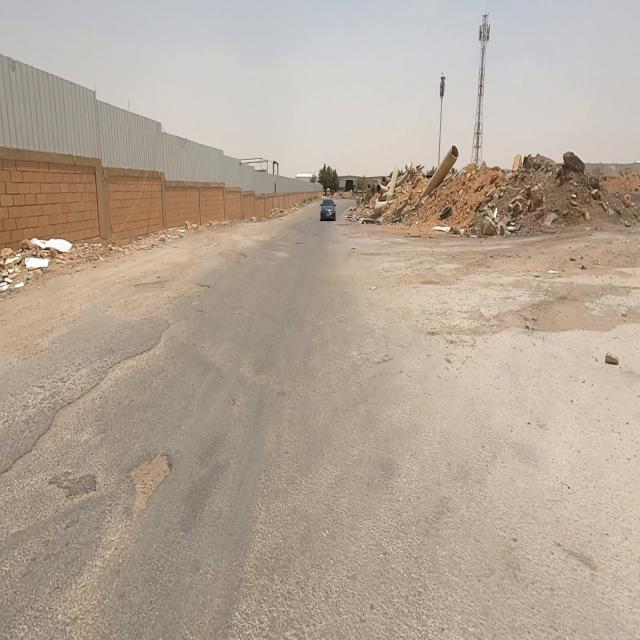Pothole: (130, 453, 170, 518), (135, 278, 209, 304), (219, 249, 246, 262)
